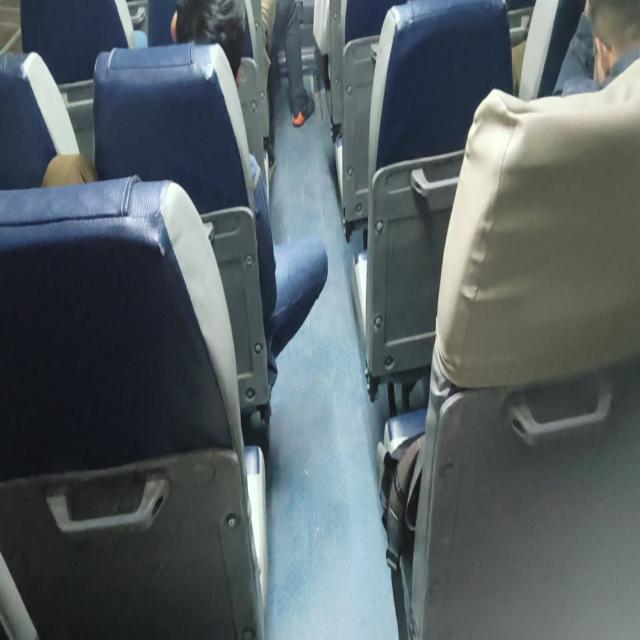person: (169, 0, 328, 391), (261, 1, 315, 167), (556, 0, 639, 97), (170, 0, 248, 87)
